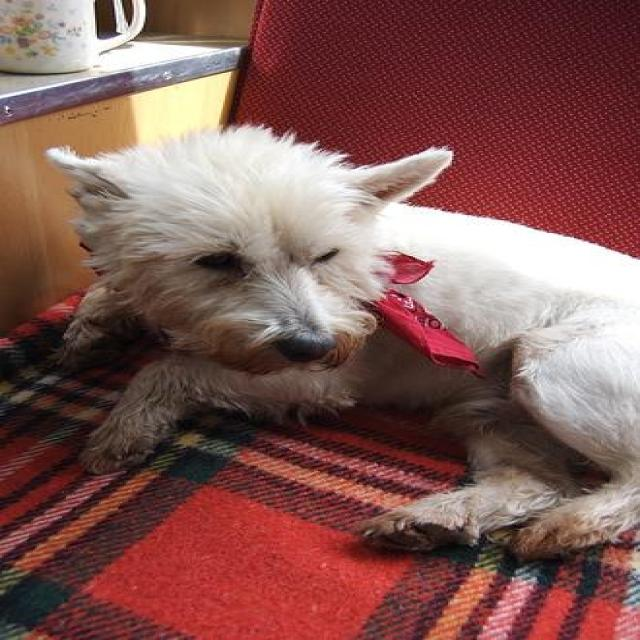dogs: (4, 50, 640, 570)
